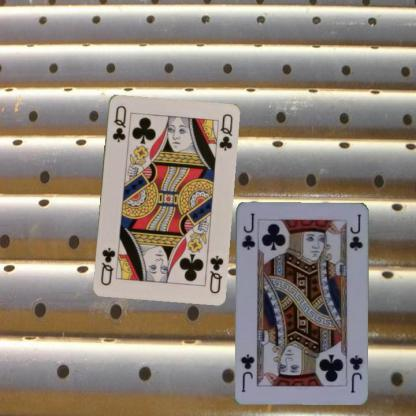Jc: (346, 352, 364, 394), (239, 210, 256, 251)
Qc: (206, 252, 224, 295), (109, 102, 127, 143)
